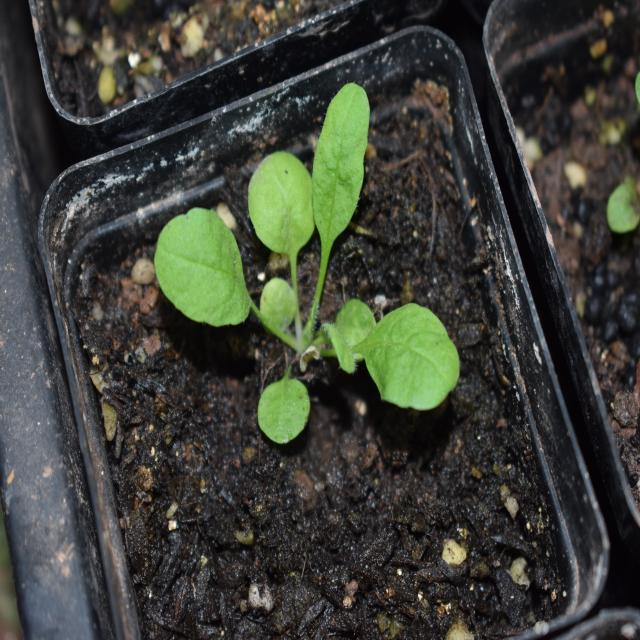Shepherd_Purse: (140, 84, 472, 443)
